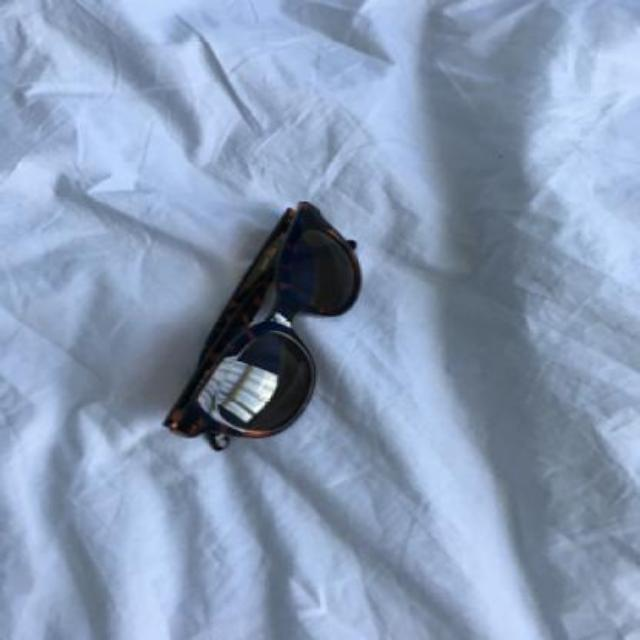sunglasses: (160, 198, 360, 452)
